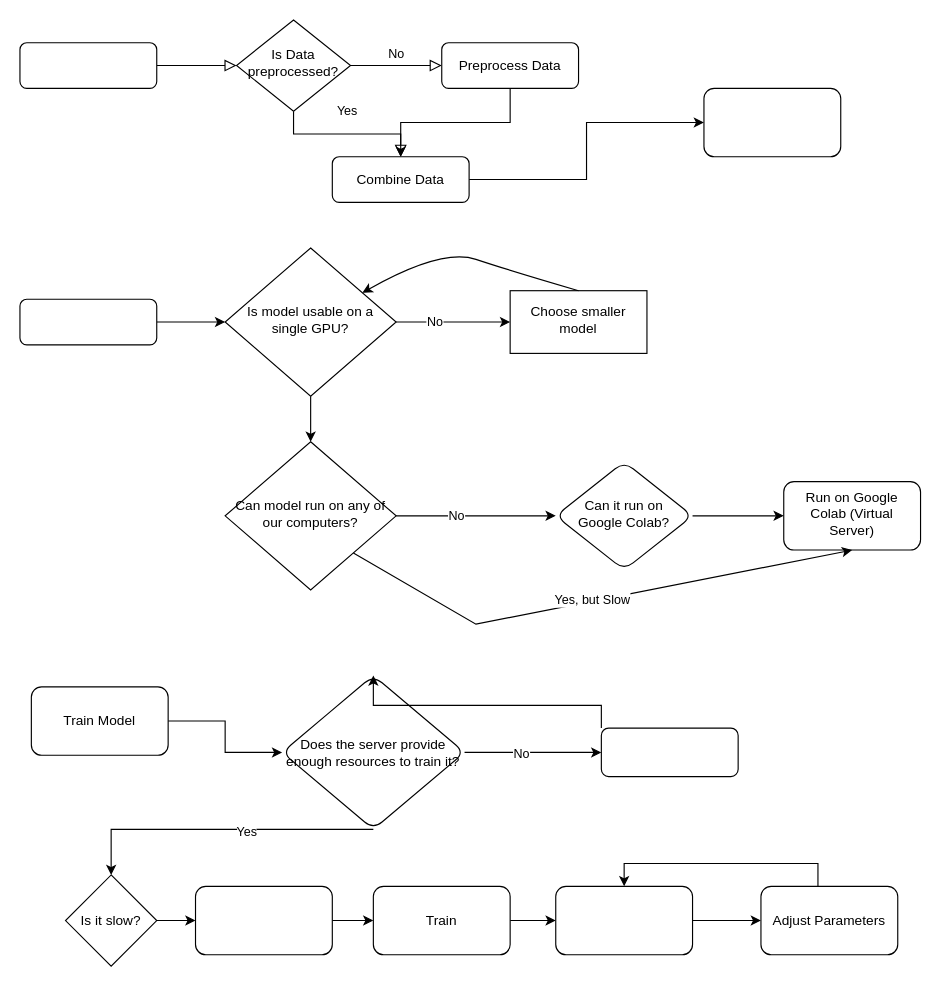
The diagram is 941 pixels wide and 986 high, and some of its shapes have lost their labels. The centre of each missing label's shape, as x and y in pixels:
Choose Model: the point at 88,321
Evaluate: the point at 624,920
Get Data: the point at 88,65
Quantize it: the point at 263,920
Spilt into Testing and Training data: the point at 772,122
Try a higher model: the point at 669,752
